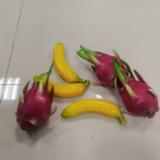pitaya: (16, 73, 57, 133), (113, 65, 159, 118), (91, 53, 132, 87)
